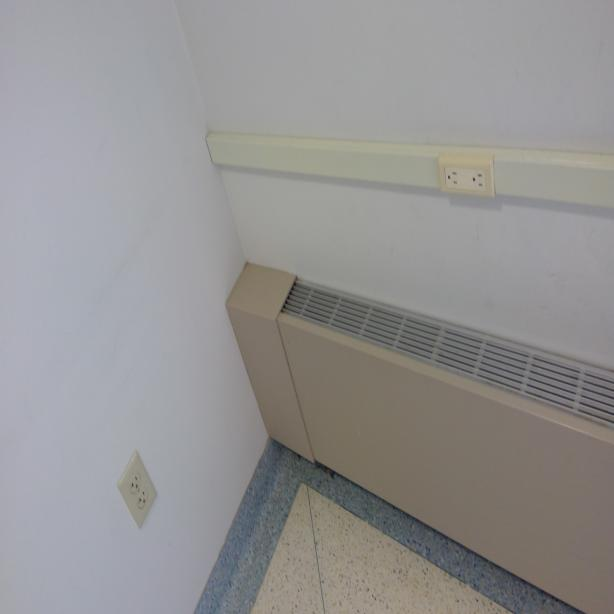typeb: (443, 164, 462, 195), (468, 168, 485, 195), (126, 471, 140, 492), (136, 490, 148, 509)
